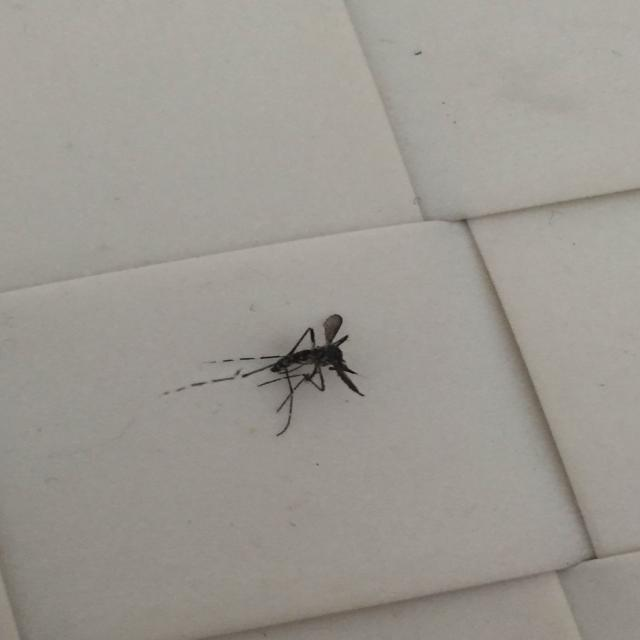albopictus: (161, 306, 374, 440)
